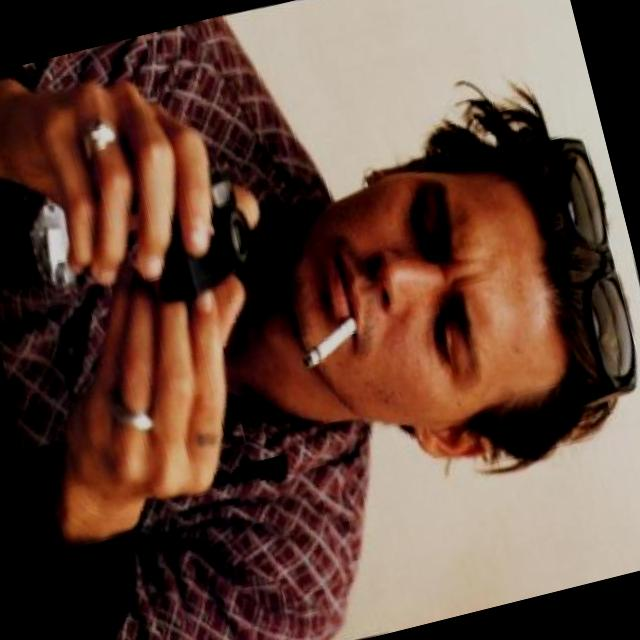smoke: (292, 305, 365, 370)
